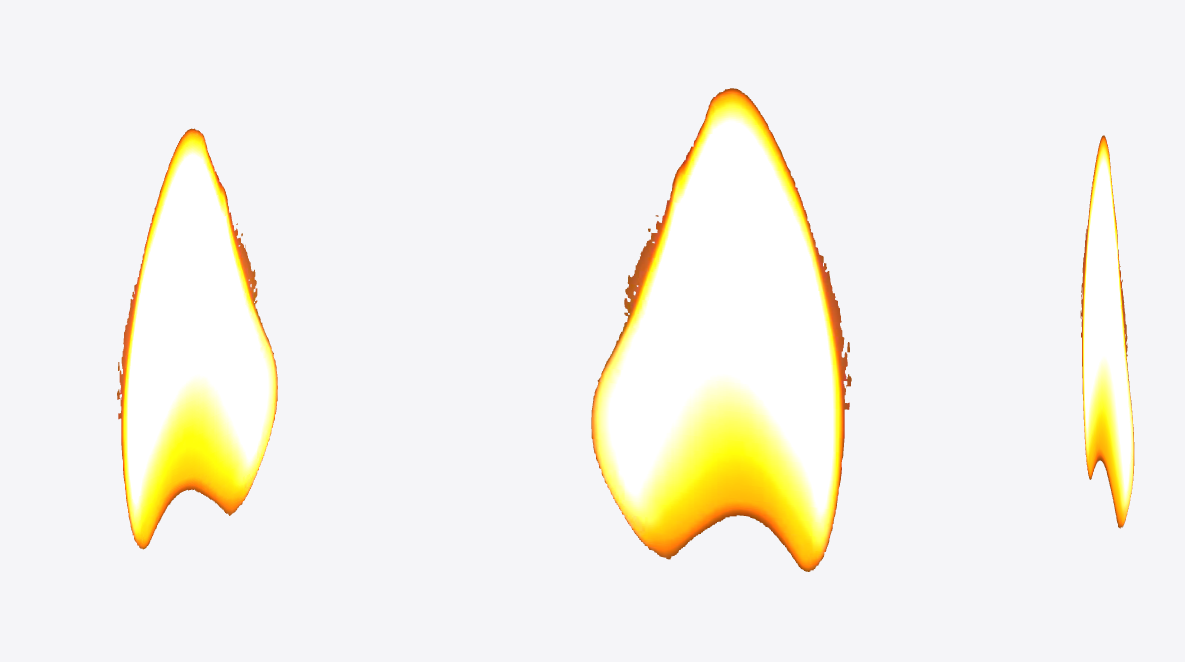
3 renders of one model, left to right at view 1: azimuth 30°, elevation 25°; view 2: azimuth 150°, elevation 25°; view 3: azimuth 270°, elevation 25°, orthographic. The views are drawn at different scales.
Parts seen in each view (by area): view 1: _313; view 2: _313; view 3: _313.
Boxes of the visible parts, x1,y1,x2,y2 form: _313: (117,128,277,549); _313: (591,88,851,571); _313: (1080,135,1134,528).
Size of the model in its own units: 5.77 by 5.97 by 1.54.
